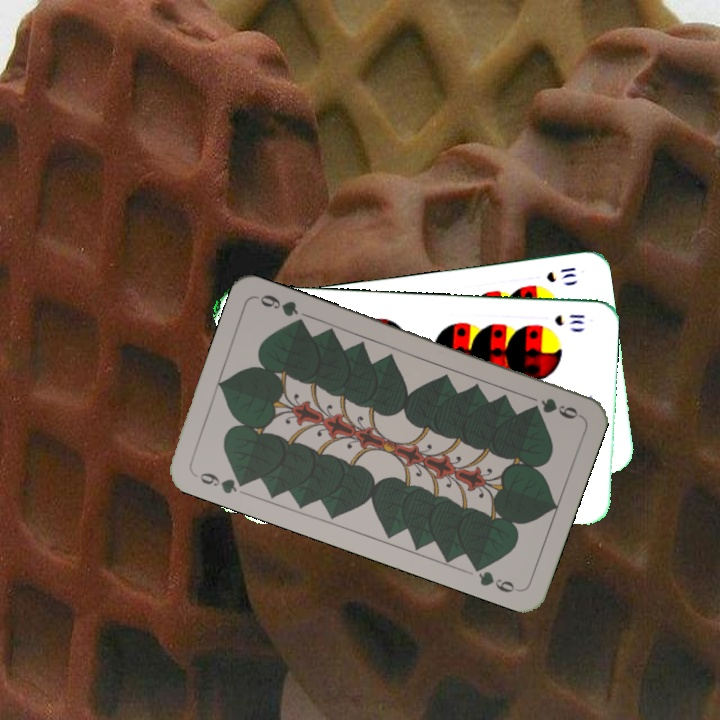G9: (190, 468, 251, 497), (536, 394, 583, 422)
S10: (542, 263, 579, 285), (550, 310, 588, 329)
